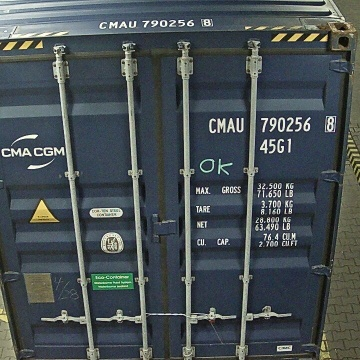serial_id: (209, 115, 336, 132)
